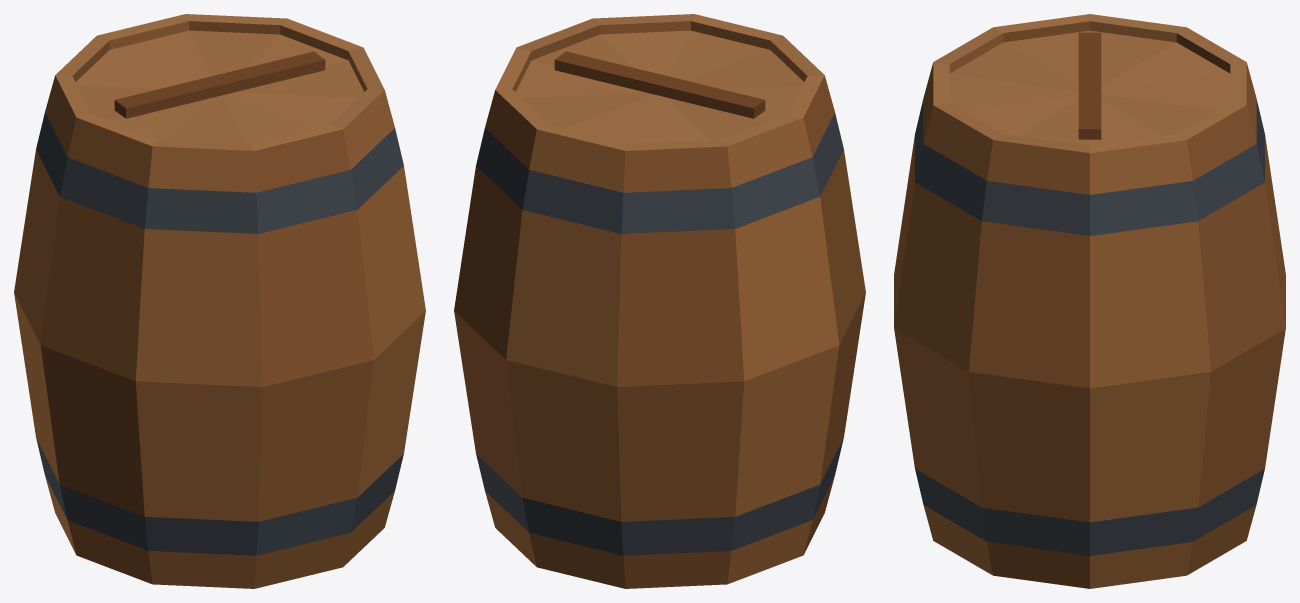
The model's file is barrel.glb.
3 renders of one model, left to right at view 1: azimuth 30°, elevation 25°; view 2: azimuth 150°, elevation 25°; view 3: azimuth 270°, elevation 25°, orthographic.
Visible parts, largest first — view 1: barrel; view 2: barrel; view 3: barrel.
Part boxes in pixels (box(x1,y1,x2,y2)): barrel: box(14, 14, 425, 588); barrel: box(454, 14, 865, 588); barrel: box(894, 14, 1285, 588).
Size of the model in its own units: 0.72 by 0.845 by 0.6848.
